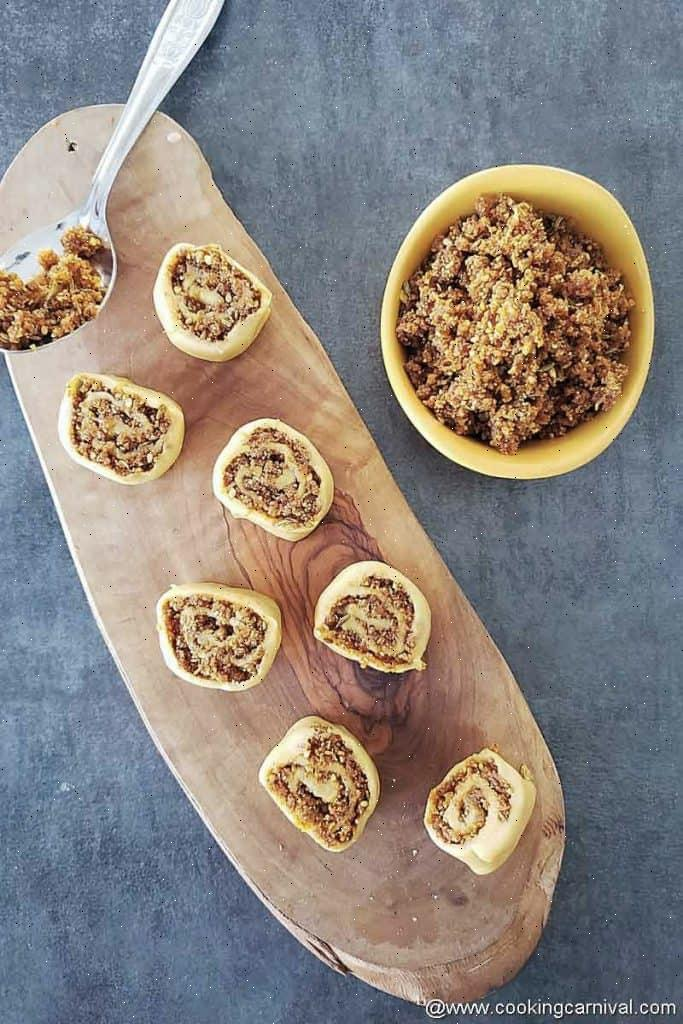bhakarwadi: (62, 238, 385, 931)
